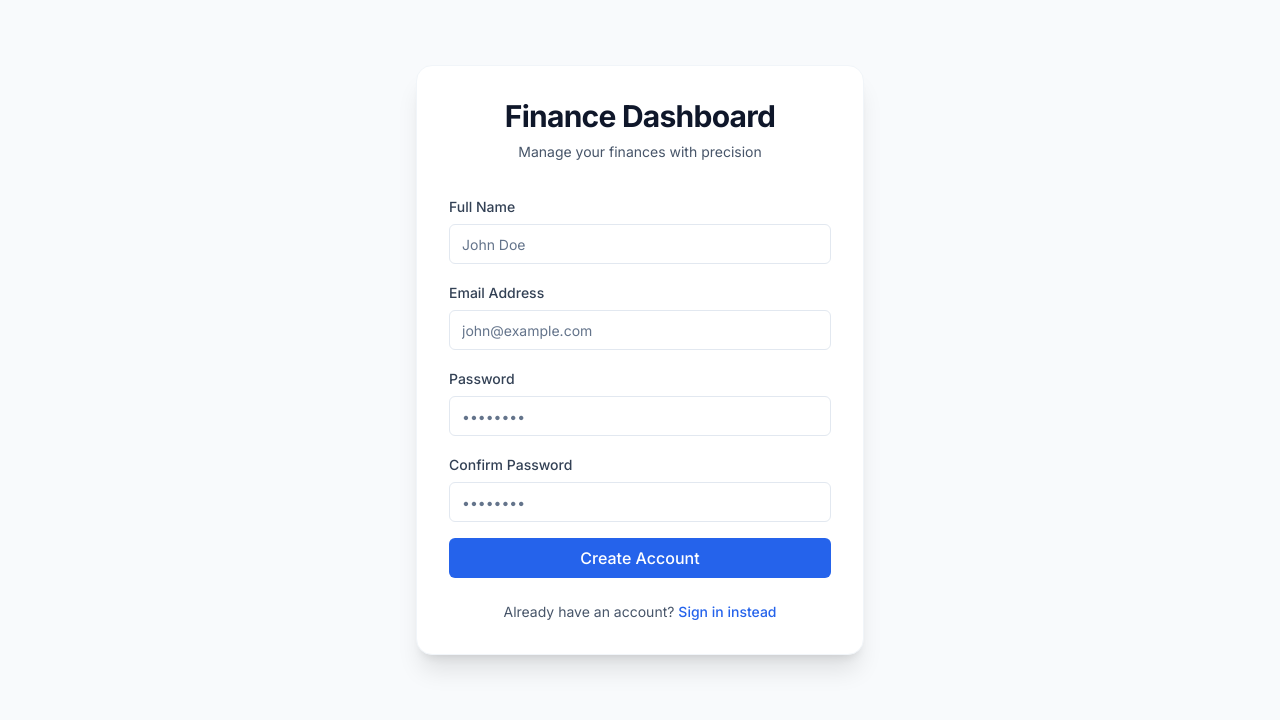
Authentication Flow Integration Tests › should handle registration correctly
# Fill registration form
Step 1. Type "New User" into the field labelled "Full Name" → (640, 244), box [449,224,831,264]
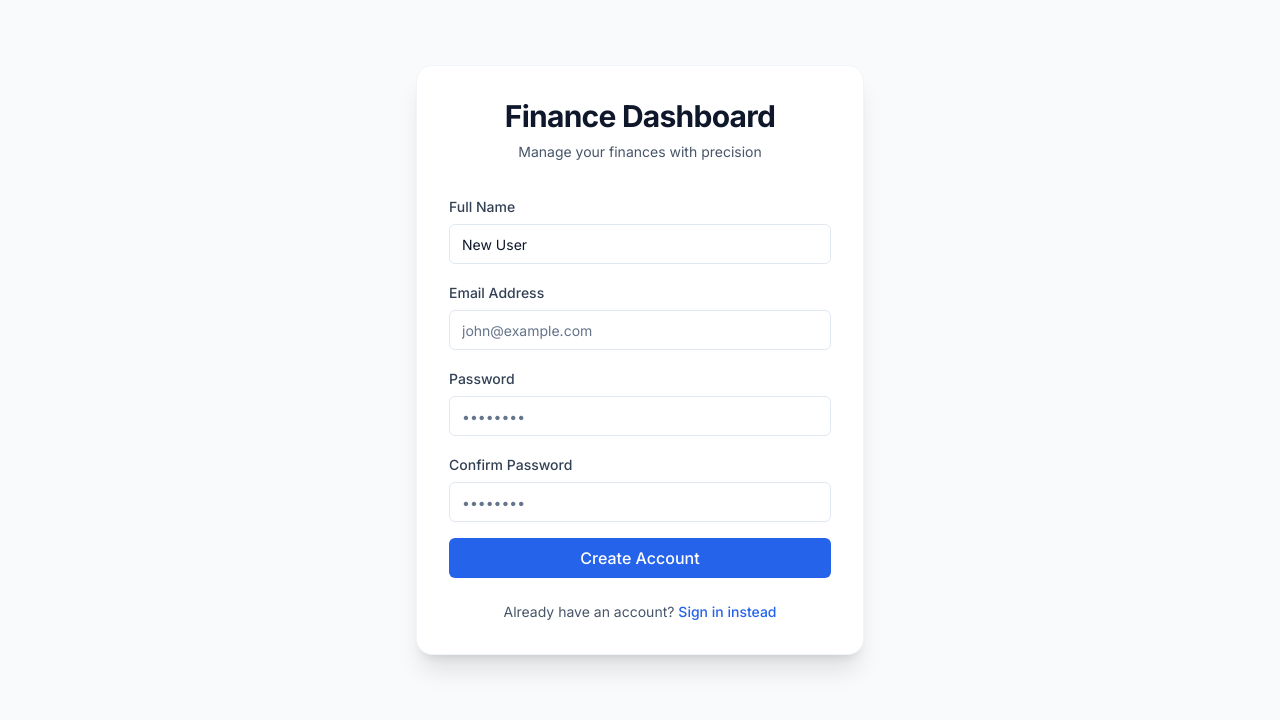
Step 2. Type "new@example.com" into the field labelled "Email Address" → (640, 330), box [449,310,831,350]
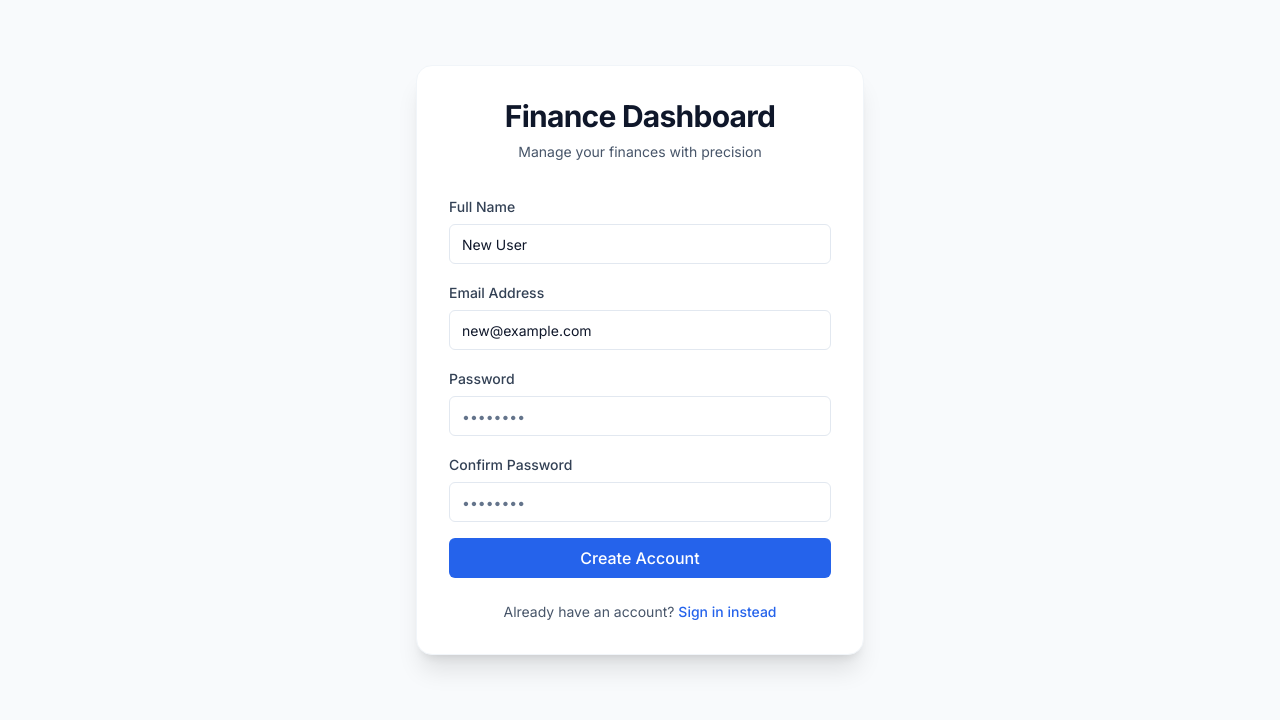
Step 3. Type "password123" into the password field labelled "Password" → (640, 416), box [449,396,831,436]
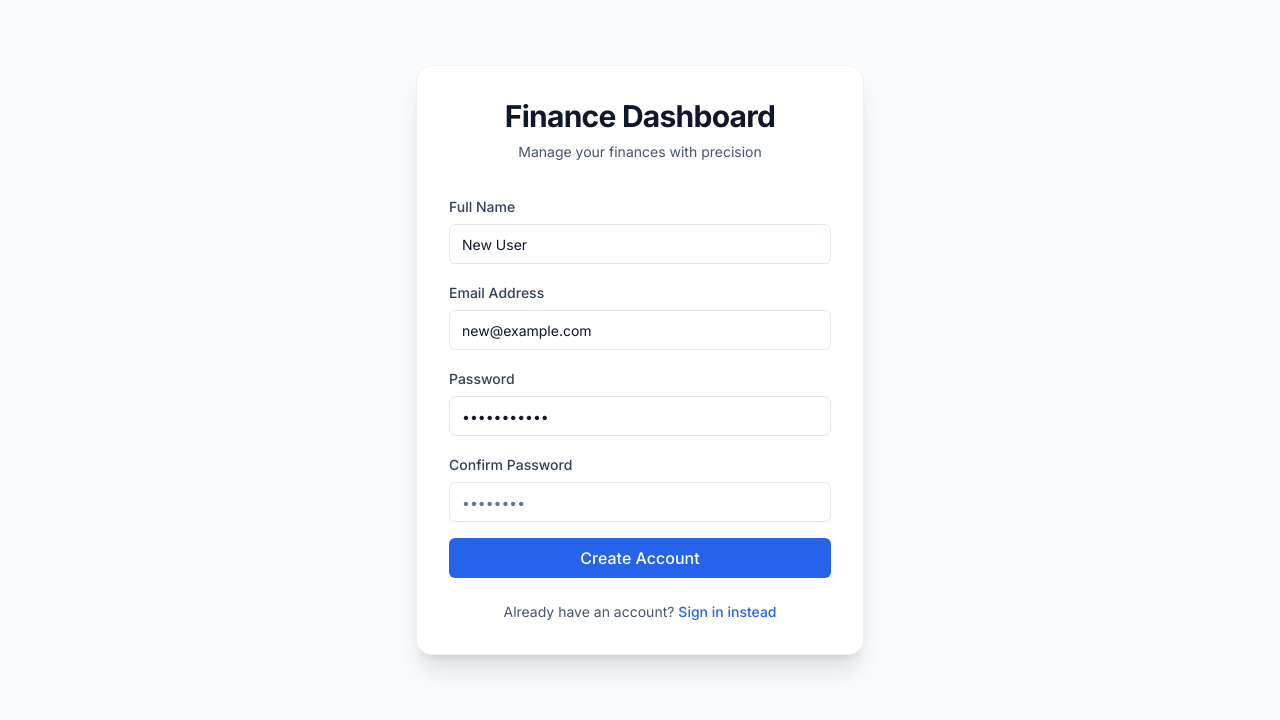
Step 4. Type "password123" into the password field labelled "Confirm Password" → (640, 502), box [449,482,831,522]
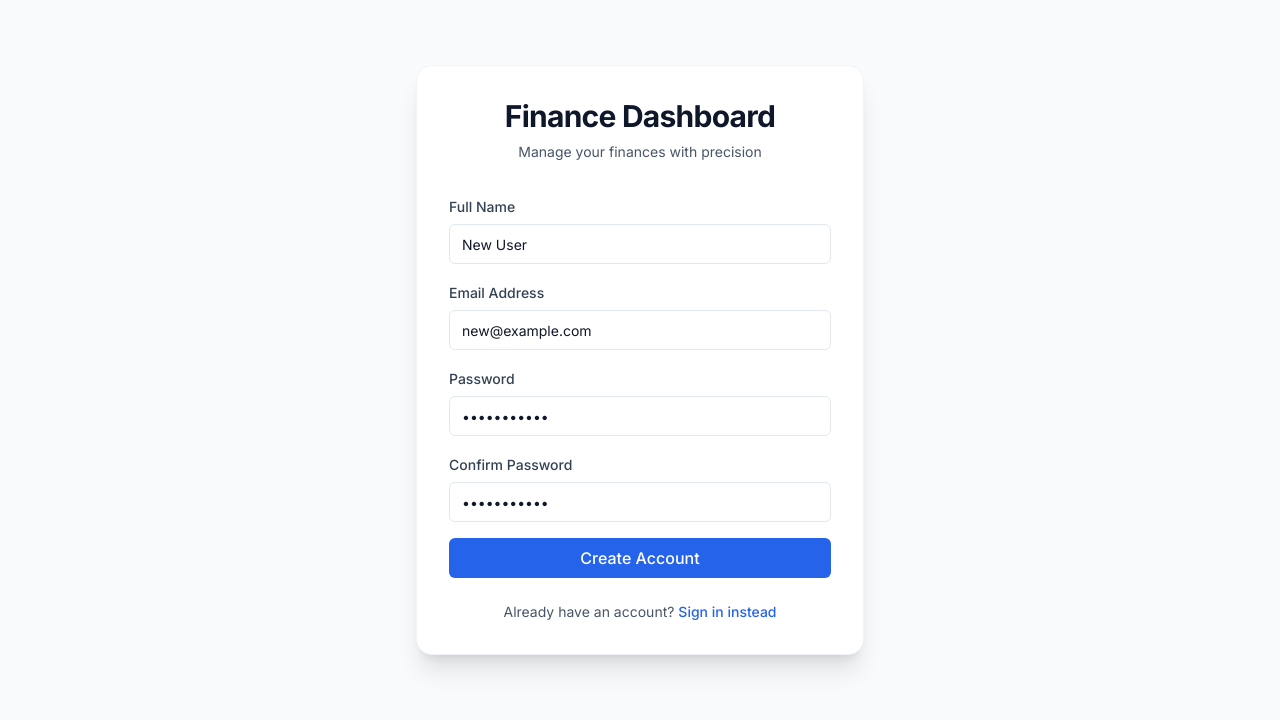
Step 5. Click the button "Create Account" → (640, 558), box [449,538,831,578]
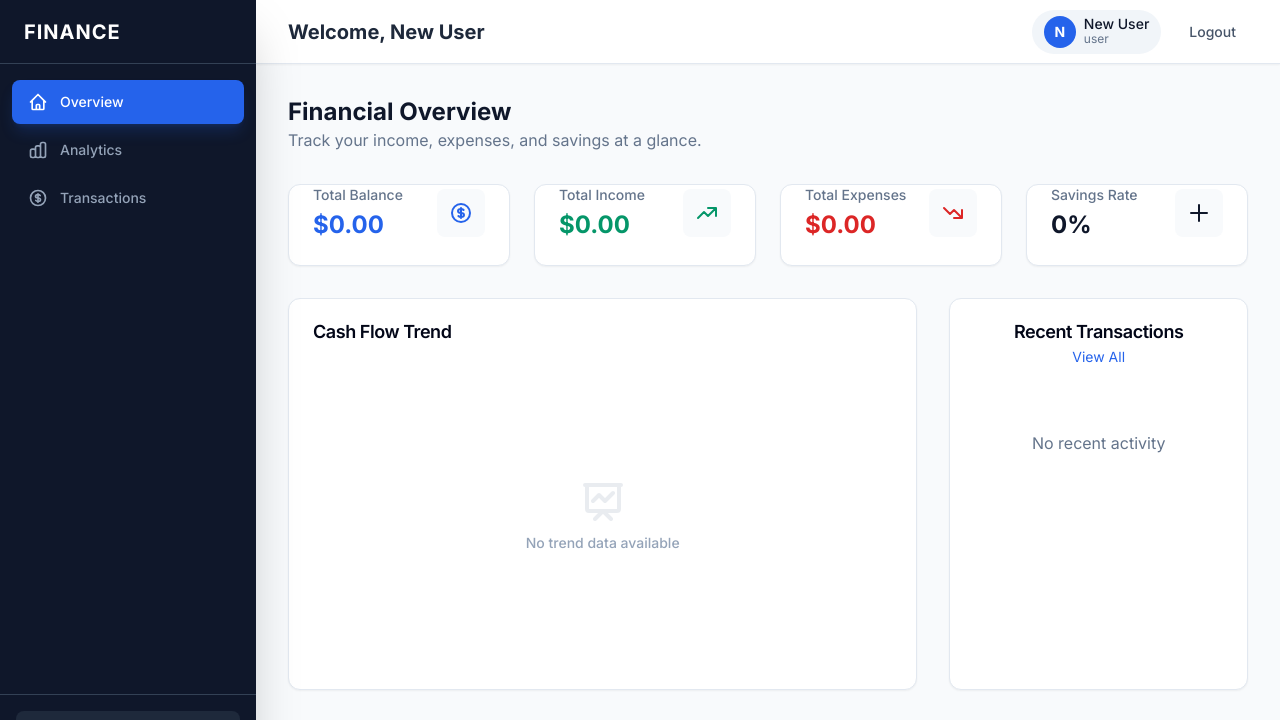
Check: the heading "Financial Overview" is shown, box [288,97,511,126]
